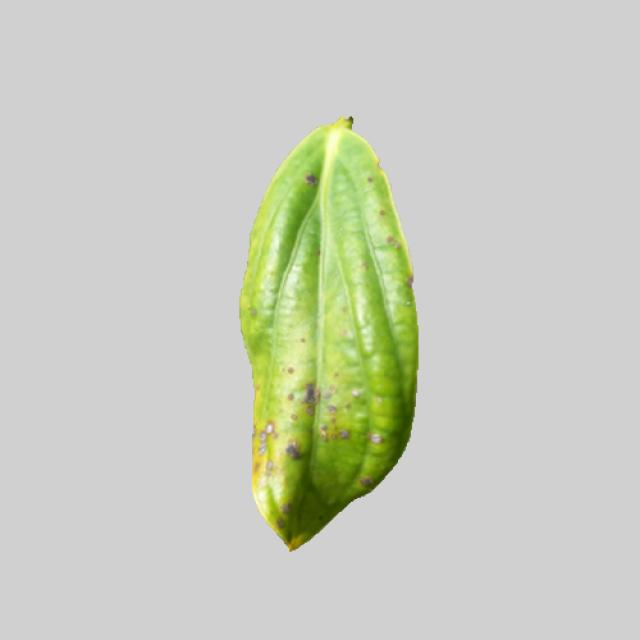yellow-mottle-virus: (235, 116, 420, 554)
